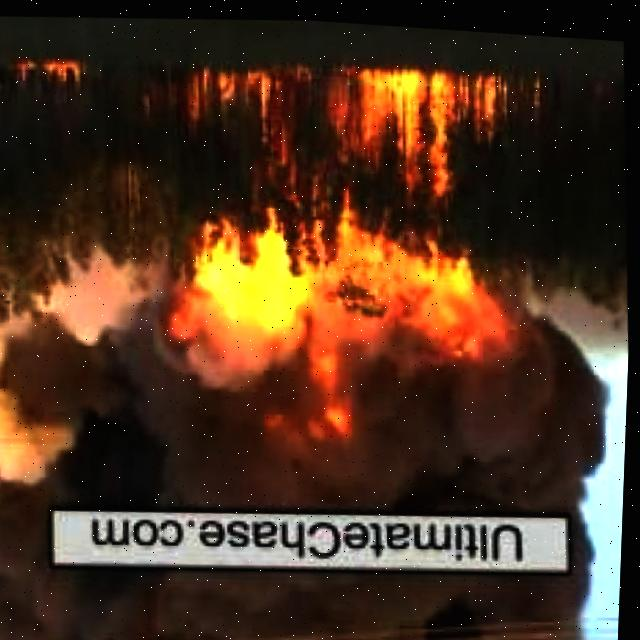Fire: (146, 42, 527, 434), (8, 54, 85, 93)
Smoke: (0, 322, 613, 541), (0, 538, 611, 640), (8, 54, 85, 93)
